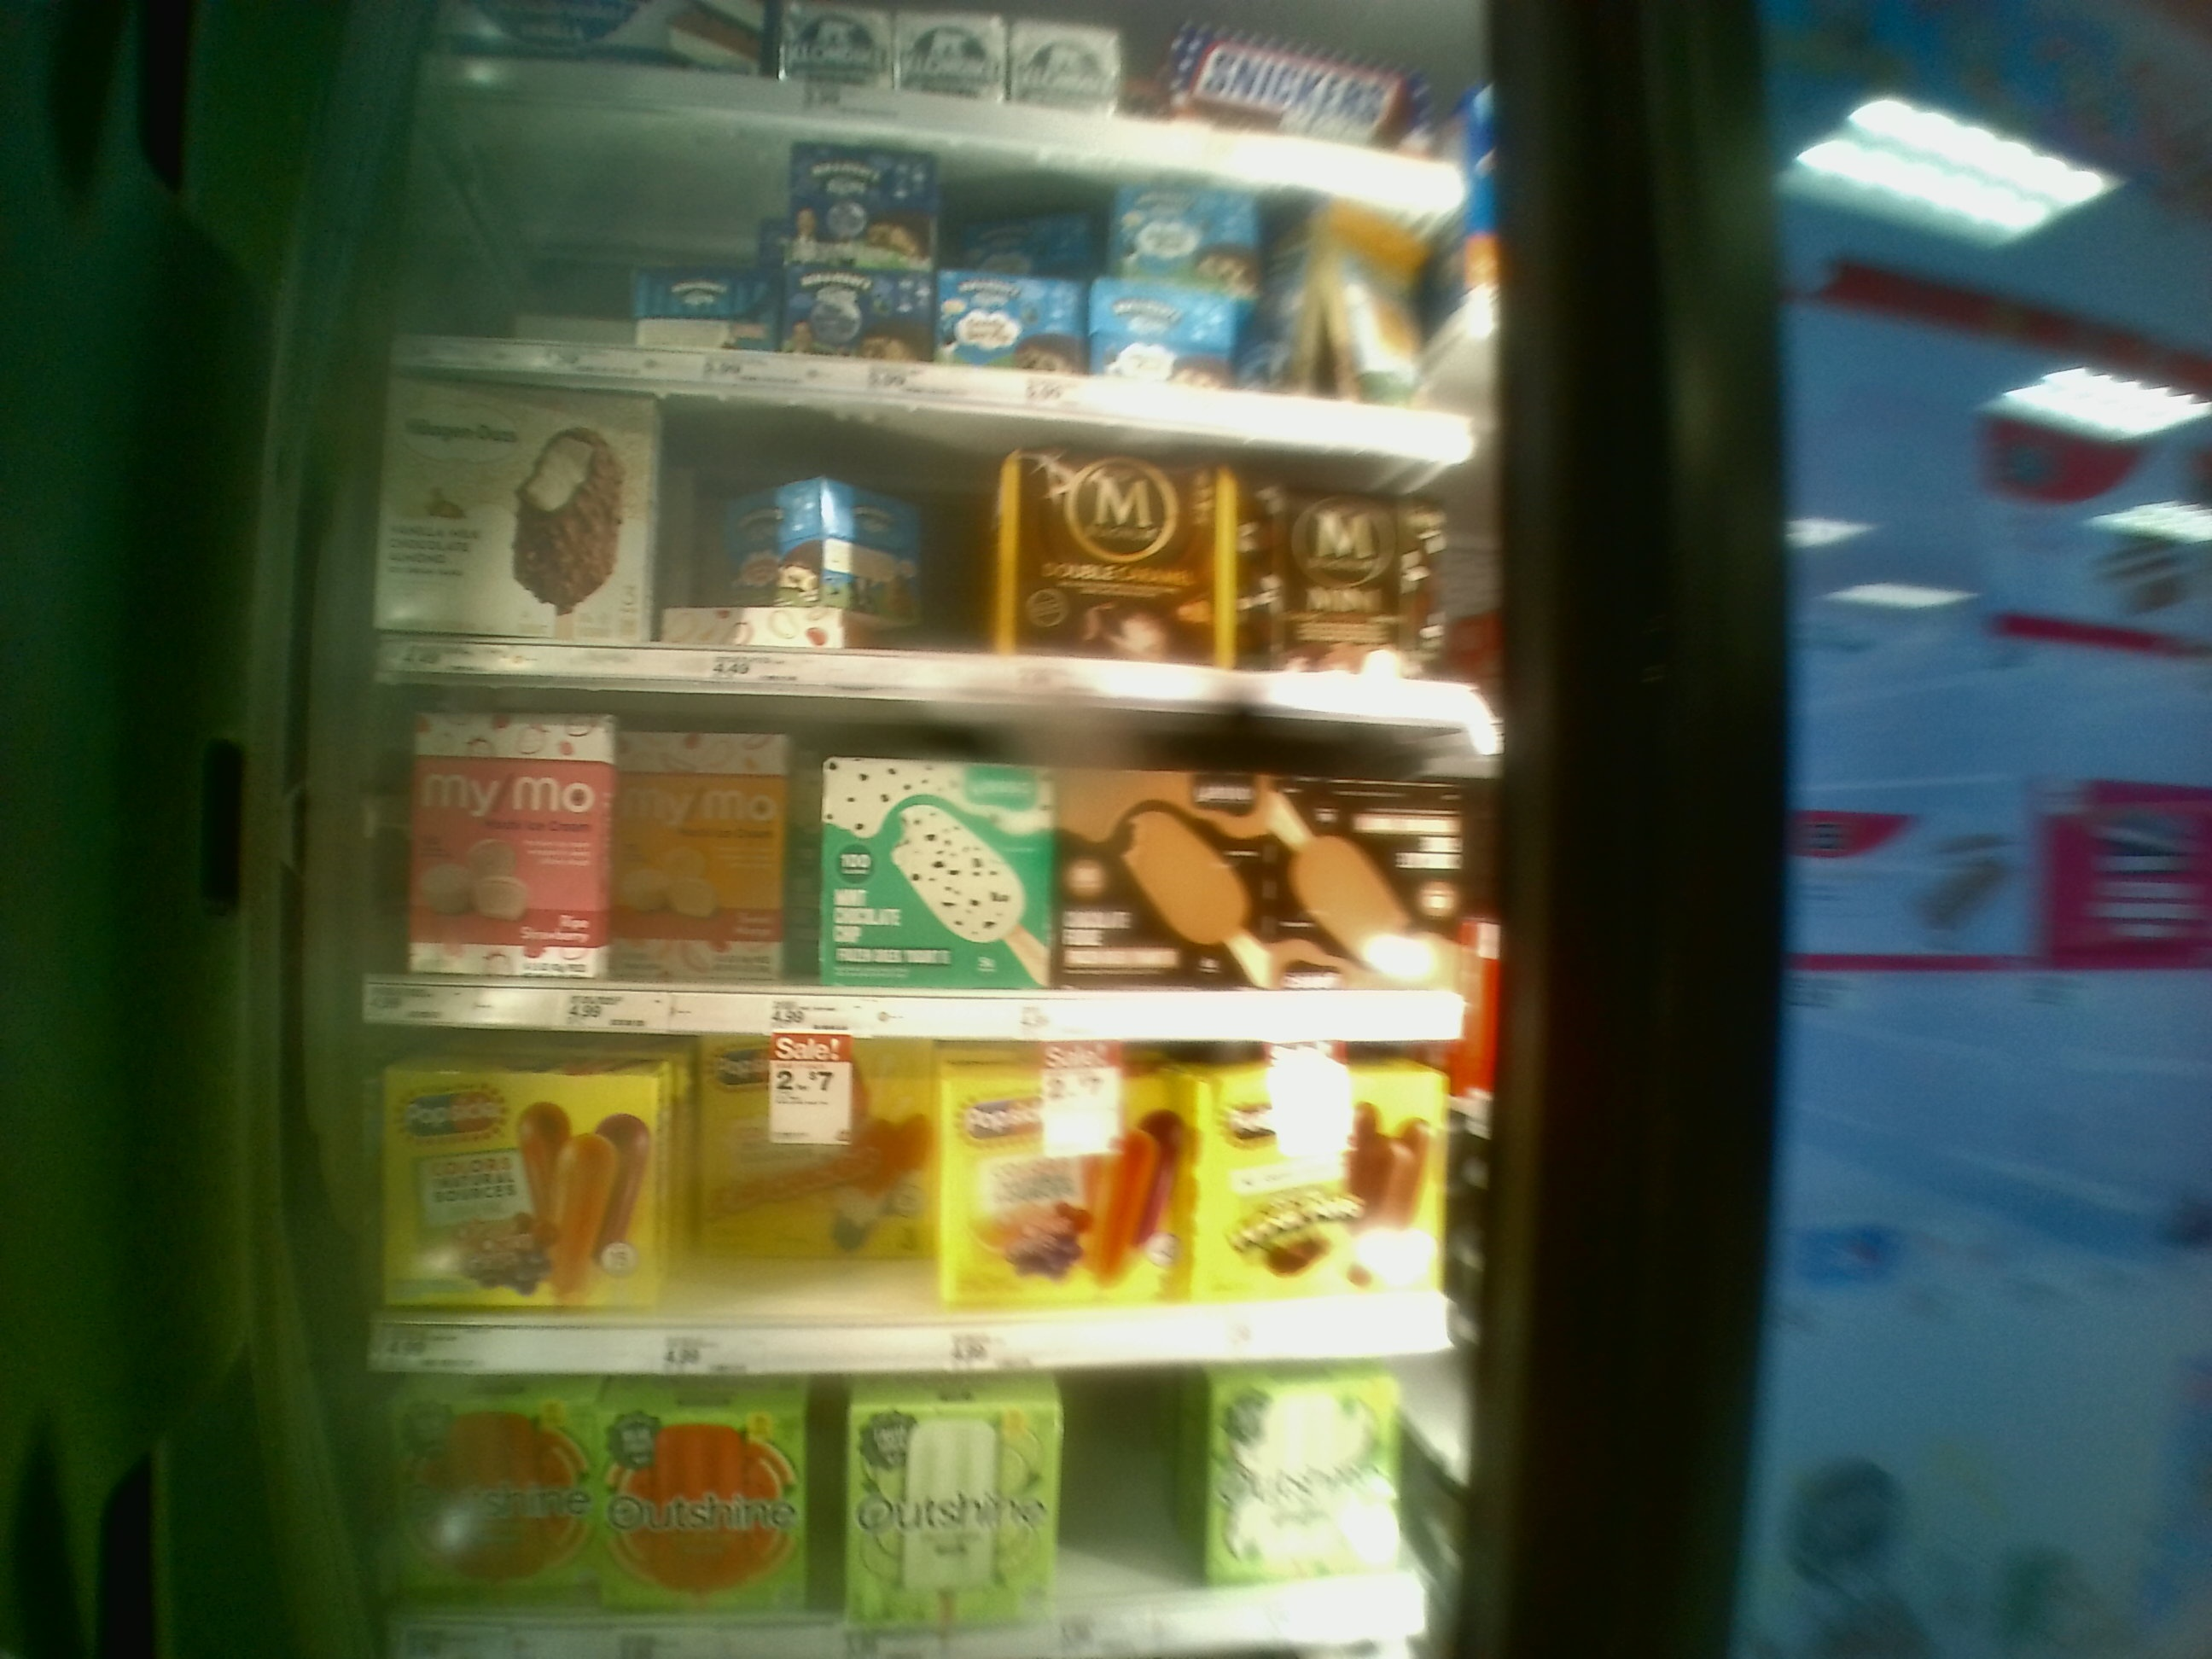ice-cream-shelf: (366, 694, 1475, 1040), (366, 375, 1514, 706), (359, 1035, 1479, 1359), (359, 1361, 1470, 1647)
